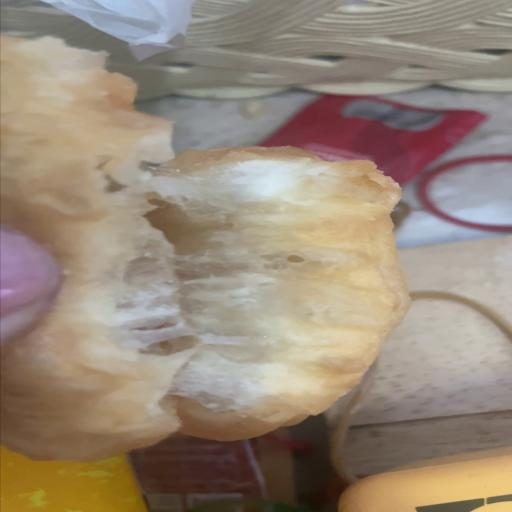street_golden_defect: (0, 148, 407, 450)
